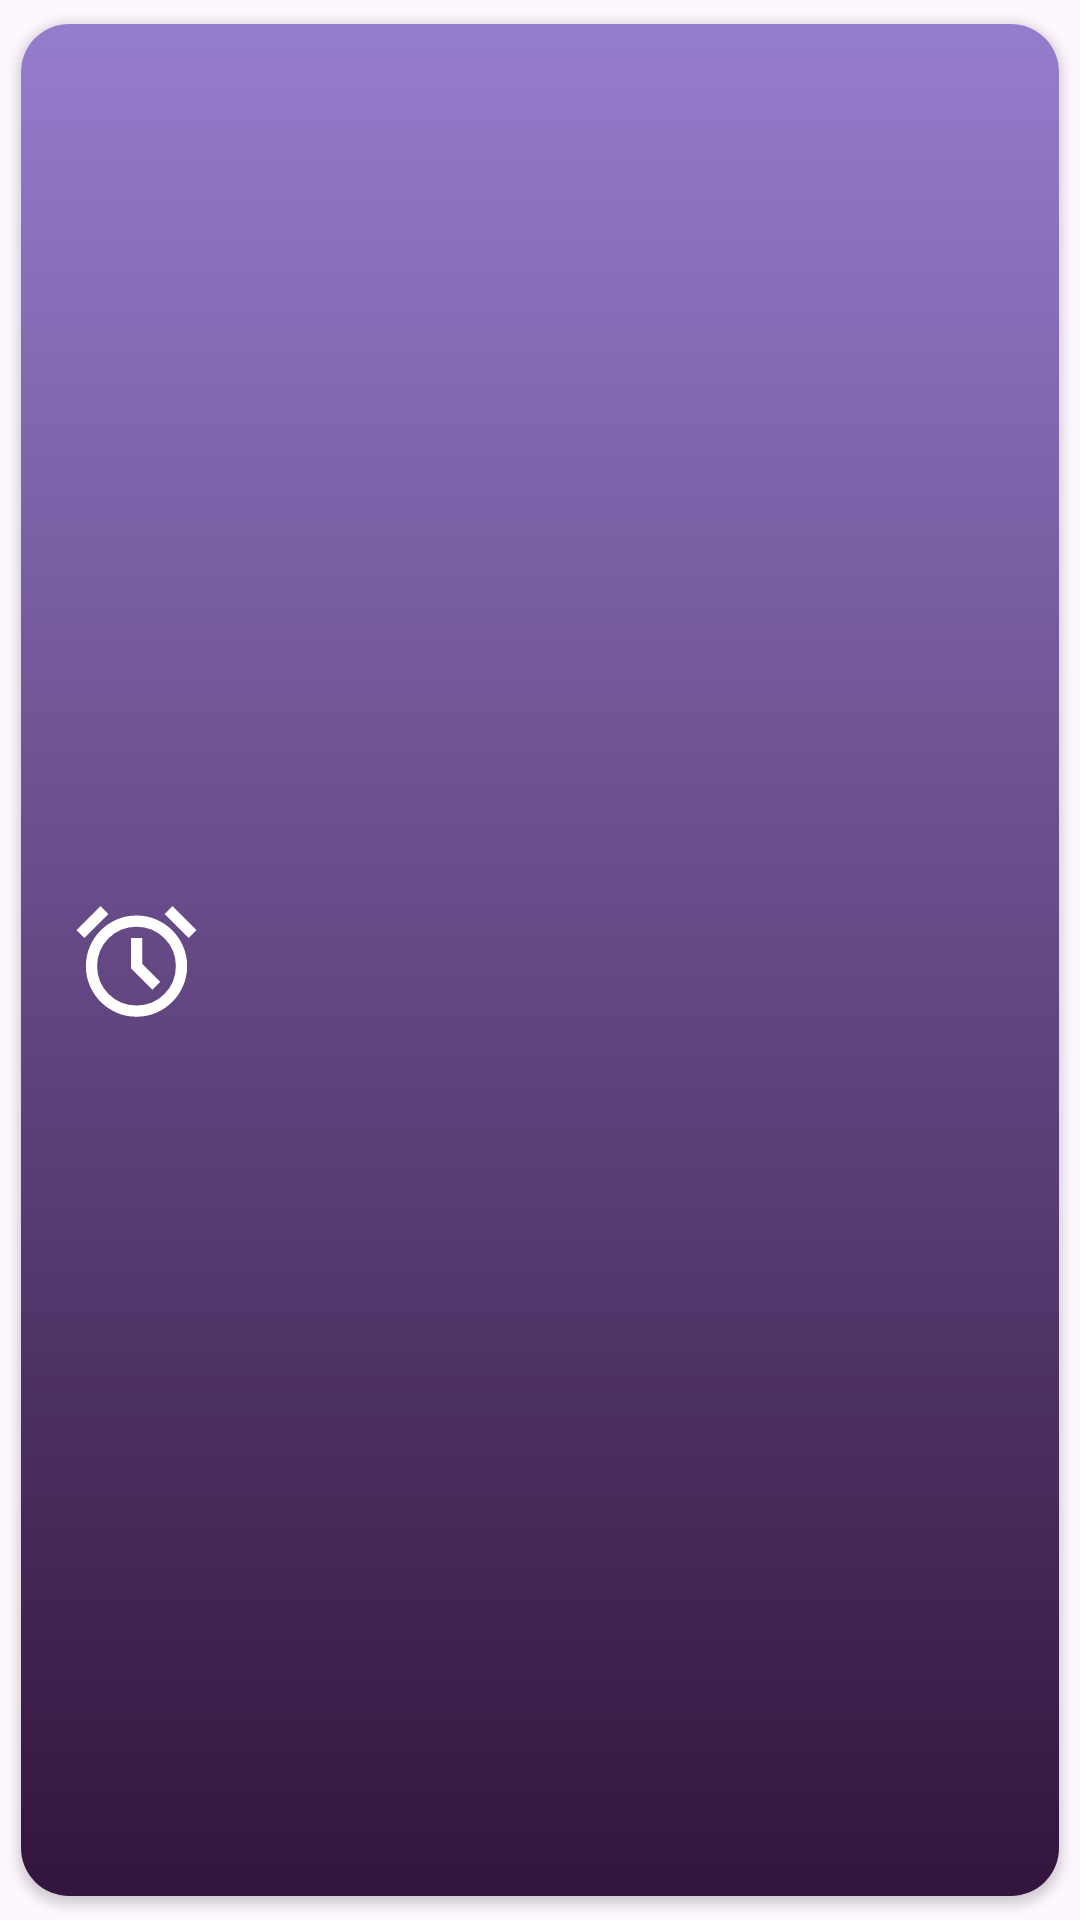

Named icons in this screenshot (1080px x 1920px) and their centers, point (x, y):
alarm: point (136, 961)
